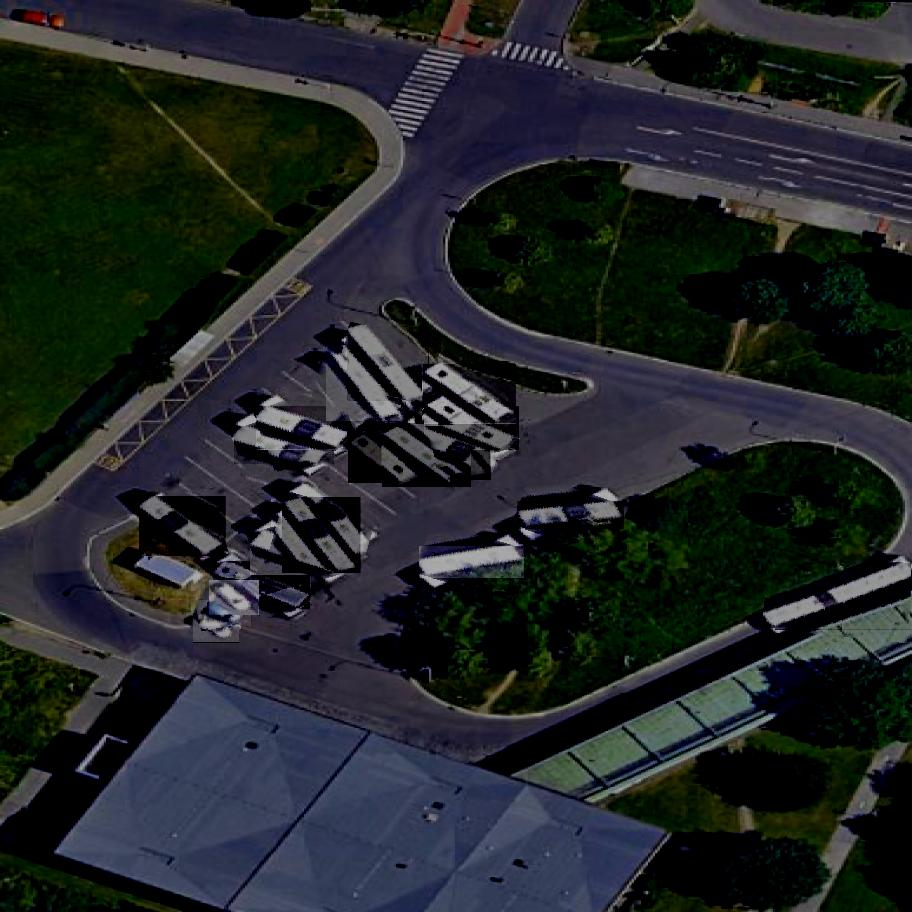large-vehicle: (347, 318, 429, 410), (326, 338, 406, 432), (282, 491, 363, 581), (382, 417, 471, 492), (415, 400, 491, 487), (423, 359, 516, 429), (138, 492, 226, 562), (213, 558, 310, 614), (250, 527, 353, 578), (423, 403, 519, 453), (256, 404, 355, 452), (348, 427, 420, 488), (234, 425, 334, 467), (420, 545, 525, 579), (518, 500, 624, 531)
small-vehicle: (210, 572, 260, 621), (192, 605, 239, 650), (198, 600, 251, 629)
